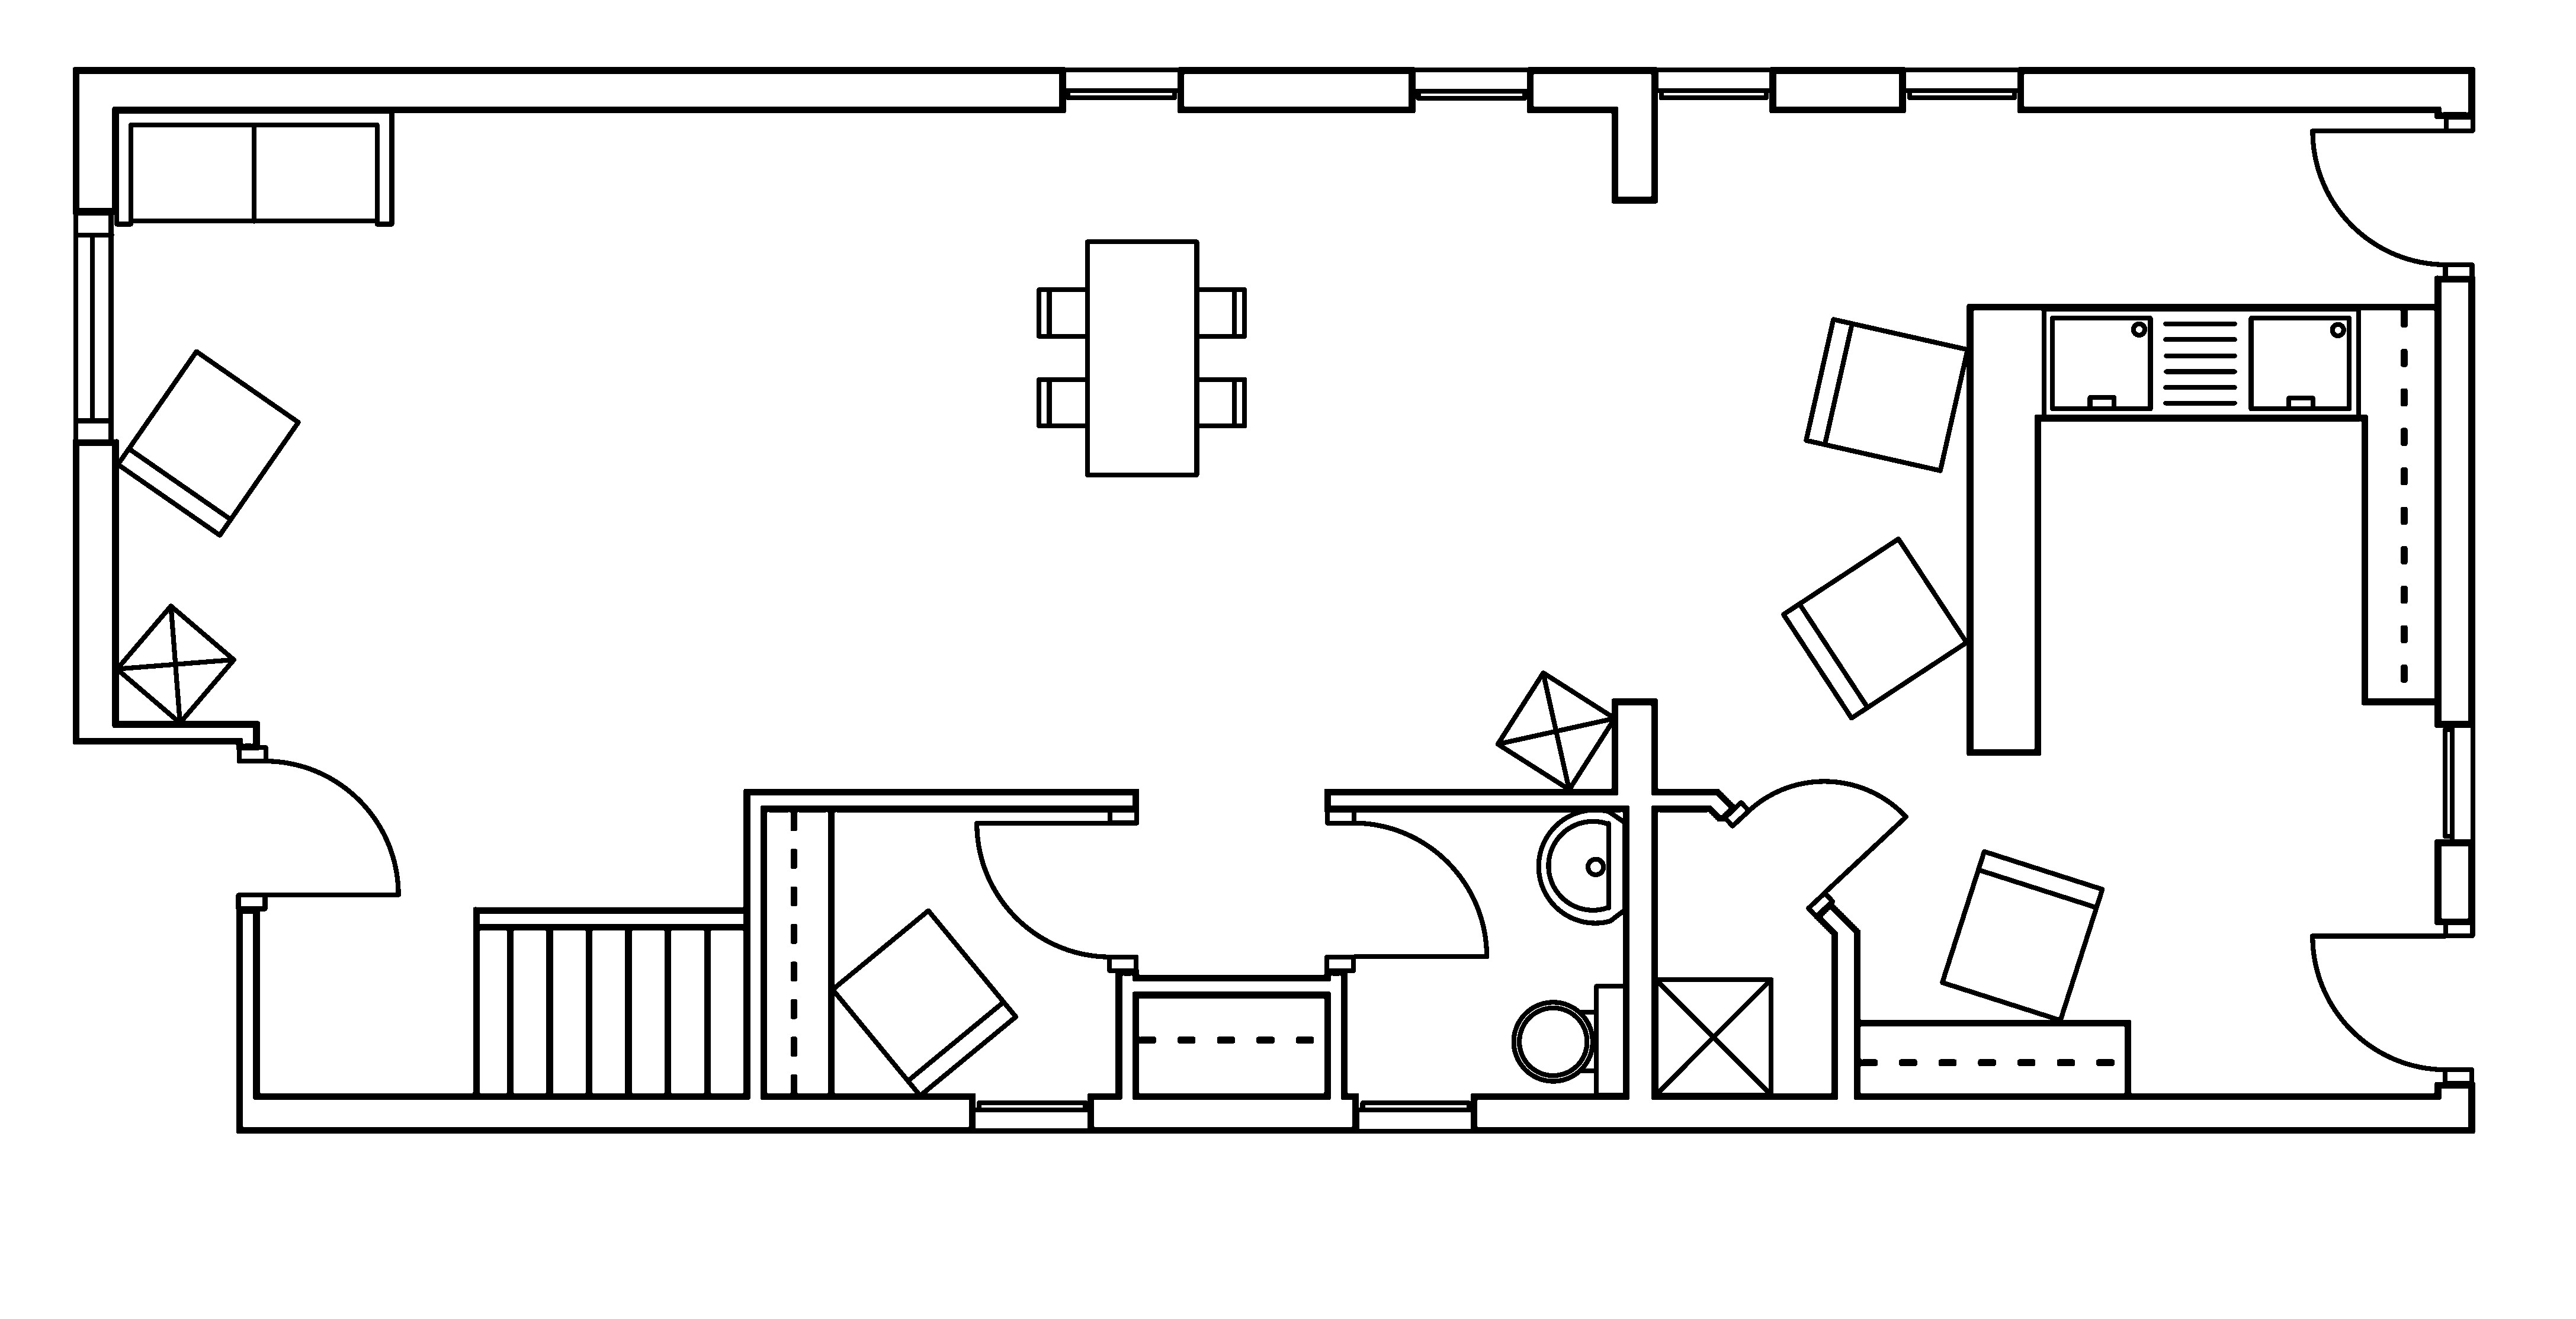coffee_table: (1493, 670, 1618, 792), (113, 602, 237, 725), (1651, 976, 1774, 1097)
dining_table: (1036, 239, 1248, 478)
large_sink: (1512, 983, 1628, 1097)
large_sofa: (113, 108, 395, 227)
small_sink: (1535, 808, 1628, 925)
small_sofa: (829, 907, 1019, 1099), (114, 348, 301, 538), (1781, 535, 1969, 720), (1939, 848, 2105, 1023), (1803, 316, 1971, 473)
twin_sink: (2040, 305, 2361, 421)
